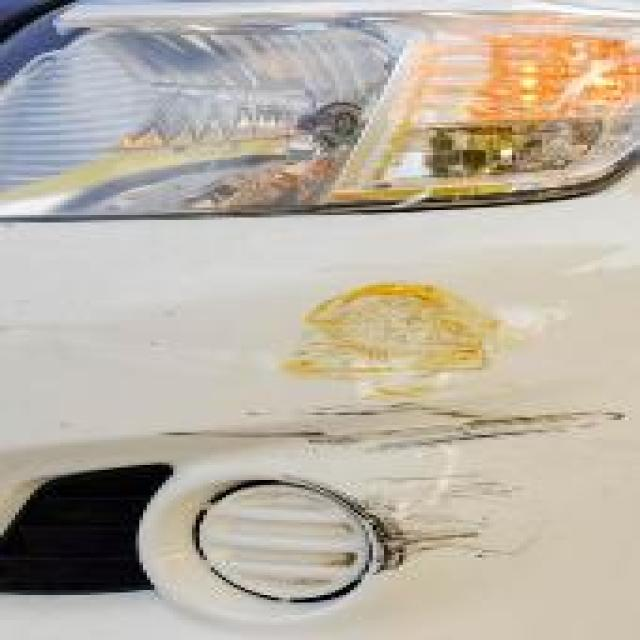Bumper: (162, 228, 621, 575)
